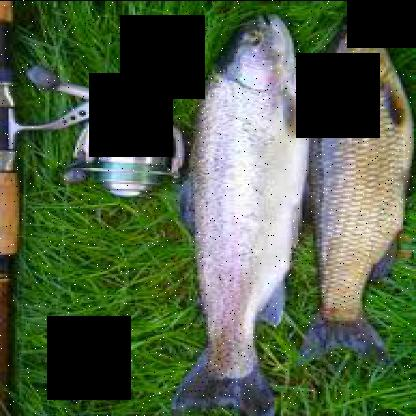fish: (163, 9, 315, 415), (290, 13, 412, 368)
